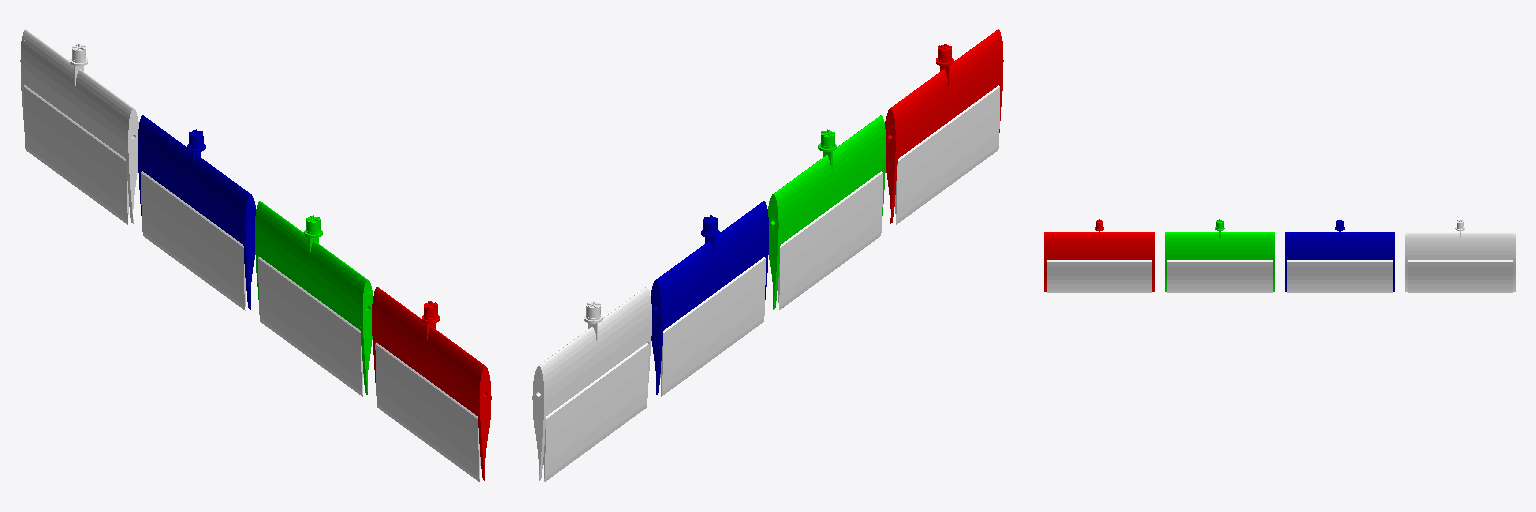
URDF robot description (physics):
<?xml version="1.0"?>
<robot name="physics">


 <!--                                  LINK 0                                   -->
  <link name="link0">
    <visual name='link0_visual'>
        <origin rpy="0 0 0" xyz="0.0 .28 0"/>

        <geometry>
            <mesh filename="package://meshes/mist_mainwing.STL" scale="0.001 0.001 0.001"/>
        </geometry>
      <material name="white">
        <color rgba="1 1 1 1"/>
      </material>
    </visual>
    
    <collision name='link0_collision'>
        <origin rpy="0 0 0" xyz="0 0 -.2 "/>
        <geometry>
            <box size="0.7 0.7 0.1"/>
        </geometry>
    </collision>
    
    <inertial>
      <mass value="20"/>
      <inertia ixx="1.0" ixy="0.0" ixz="0.0" iyy="1.0" iyz="0.0" izz="1.0"/>
    </inertial>
  </link>
 <!--                                  LINK 1                                   -->
 <link name="link1">
    <visual name='link1_visual'>
        <origin rpy="0 0 0" xyz="0.0 .28 0"/>

        <geometry>
            <mesh filename="package://meshes/mist_mainwing.STL" scale="0.001 0.001 0.001"/>
        </geometry>

      <material name="blue">
        <color rgba="0 0 .8 1"/>
      </material>
    </visual>
    
    <collision name='link1_collision'>
        <origin rpy="0 0 0" xyz="0 0 -.2 "/>

        <geometry>
            <box size="0.7 0.7 0.1"/>
        </geometry>
    </collision>
    
    <inertial>
      <mass value="20"/>
      <inertia ixx="1.0" ixy="0.0" ixz="0.0" iyy="1.0" iyz="0.0" izz="1.0"/>
    </inertial>
  </link>


   <!--                                  LINK 2                                  -->
 <link name="link2">
    <visual name='link2_visual'>
        <origin rpy="0 0 0" xyz="0.0 .28 0"/>

        <geometry>
            <mesh filename="package://meshes/mist_mainwing.STL" scale="0.001 0.001 0.001"/>
        </geometry>
      
      <material name="green">
        <color rgba="0 1 0 1"/>
      </material>
    </visual>
    
    <collision name='link2_collision'>
        <origin rpy="0 0 0" xyz="0 0 -.2 "/>

        <geometry>
            <box size="0.7 0.7 0.1"/>
        </geometry>
    </collision>
    
    <inertial>
      <mass value="20"/>
      <inertia ixx="1.0" ixy="0.0" ixz="0.0" iyy="1.0" iyz="0.0" izz="1.0"/>
    </inertial>
  </link>

     <!--                                  LINK 3                                  -->
 <link name="link3">
    <visual name='link3_visual'>
        <origin rpy="0 0 0" xyz="0.0 .28 0"/>

        <geometry>
            <mesh filename="package://meshes/mist_mainwing.STL" scale="0.001 0.001 0.001"/>
        </geometry>

      <material name="red">
        <color rgba="1 0 0 1"/>
      </material>
    </visual>
    
    <collision name='link3_collision'>
        <origin rpy="0 0 0" xyz="0 0 -.2 "/>

        <geometry>
            <box size="0.7 0.7 0.1"/>
        </geometry>
    </collision>
    
    <inertial>
      <mass value="20"/>
      <inertia ixx="1.0" ixy="0.0" ixz="0.0" iyy="1.0" iyz="0.0" izz="1.0"/>
    </inertial>
  </link>


    <joint name="h0_joint" type="revolute">
    <axis xyz="0 0 1"/>
    <parent link="link1"/>
    <child link="link0"/>
    <origin rpy="0 0 0" xyz="0 .58 0"/>
    <limit effort="1" velocity="1" lower="0" upper="1.57079632679"/>
    <joint_properties damping="1.0" friction="0.0"/>
  </joint>

      <joint name="h1_joint" type="revolute">
    <axis xyz="0 0 1"/>
    <parent link="link2"/>
    <child link="link1"/>
    <origin rpy="0 0 0" xyz="0 .58 0"/>
    <limit effort="1" velocity="1" lower="0" upper="1.57079632679"/>
    <joint_properties damping="1.0" friction="0.0"/>
  </joint>

        <joint name="h2_joint" type="revolute">
    <axis xyz="0 0 1"/>
    <parent link="link3"/>
    <child link="link2"/>
    <origin rpy="0 0 0" xyz="0 .58 0"/>
    <limit effort="1" velocity="1" lower="0" upper="1.57079632679"/>
    <joint_properties damping="1.0" friction="0.0"/>
  </joint>





<!--                              control surface 0                       -->
  <link name="ctrlsurf0">
    <visual name='ctrlsurf0_visual'>
        <origin rpy="0 0 0" xyz="0.0 .28 -.05"/>

        <geometry>
            <mesh filename="package://meshes/mist_controlsurface.STL" scale="0.001 0.001 0.001"/>
        </geometry>
      <material name="white">
        <color rgba="1 1 1 1"/>
      </material>
    </visual>
    
    <inertial>
      <mass value="20"/>
      <inertia ixx="1.0" ixy="0.0" ixz="0.0" iyy="1.0" iyz="0.0" izz="1.0"/>
    </inertial>
  </link>


  <!--                              control surface 1                       -->
  <link name="ctrlsurf1">
    <visual name='ctrlsurf1_visual'>
        <origin rpy="0 0 0" xyz="0.0 .28 -.05"/>

        <geometry>
            <mesh filename="package://meshes/mist_controlsurface.STL" scale="0.001 0.001 0.001"/>
        </geometry>
      <material name="white">
      </material>
    </visual>
    
    <inertial>
      <mass value="20"/>
      <inertia ixx="1.0" ixy="0.0" ixz="0.0" iyy="1.0" iyz="0.0" izz="1.0"/>
    </inertial>
  </link>


  <!--                              control surface 2                       -->
  <link name="ctrlsurf2">
    <visual name='ctrlsurf2_visual'>
        <origin rpy="0 0 0" xyz="0.0 .28 -.05"/>

        <geometry>
            <mesh filename="package://meshes/mist_controlsurface.STL" scale="0.001 0.001 0.001"/>
        </geometry>
      <material name="white">
      </material>
    </visual>
    
    <inertial>
      <mass value="20"/>
      <inertia ixx="1.0" ixy="0.0" ixz="0.0" iyy="1.0" iyz="0.0" izz="1.0"/>
    </inertial>
  </link>


  <!--                              control surface 3                       -->
  <link name="ctrlsurf3">
    <visual name='ctrlsurf3_visual'>
        <origin rpy="0 0 0" xyz="0.0 .28 -.05"/>

        <geometry>
            <mesh filename="package://meshes/mist_controlsurface.STL" scale="0.001 0.001 0.001"/>
        </geometry>
      <material name="white">
      </material>
    </visual>
    
    <inertial>
      <mass value="20"/>
      <inertia ixx="1.0" ixy="0.0" ixz="0.0" iyy="1.0" iyz="0.0" izz="1.0"/>
    </inertial>
  </link>

  <joint name="link0_ctrlsurf0" type="revolute">
    <axis xyz="0 1 0"/>
    <parent link="link0"/>
    <child link="ctrlsurf0"/>
    <origin rpy="0 0 0" xyz="-.003 0 -.08"/>
    <limit effort="1" velocity="1" lower="-1.57079632679" upper="1.57079632679"/>
    <joint_properties damping="1.0" friction="0.0"/>
  </joint>

  <joint name="link1_ctrlsurf1" type="revolute">
    <axis xyz="0 1 0"/>
    <parent link="link1"/>
    <child link="ctrlsurf1"/>
    <origin rpy="0 0 0" xyz="-.003 0 -.08"/>
    <limit effort="1" velocity="1" lower="-1.57079632679" upper="1.57079632679"/>
    <joint_properties damping="1.0" friction="0.0"/>
  </joint>


  <joint name="link2_ctrlsurf2" type="revolute">
    <axis xyz="0 1 0"/>
    <parent link="link2"/>
    <child link="ctrlsurf2"/>
    <origin rpy="0 0 0" xyz="-.003 0 -.08"/>
    <limit effort="1" velocity="1" lower="-1.57079632679" upper="1.57079632679"/>
    <joint_properties damping="1.0" friction="0.0"/>
  </joint>

  <joint name="link3_ctrlsurf3" type="revolute">
    <axis xyz="0 1 0"/>
    <parent link="link3"/>
    <child link="ctrlsurf3"/>
    <origin rpy="0 0 0" xyz="-.003 0 -.08"/>
    <limit effort="1" velocity="1" lower="-1.57079632679" upper="1.57079632679"/>
    <joint_properties damping="1.0" friction="0.0"/>
  </joint>

<!--                               Propeller 0                             -->
<link name="prop0">
    <visual name='prop0_visual'>
        <origin rpy="0 0 0" xyz="0.0 0 -.05"/>

        <geometry>
            <mesh filename="package://meshes/propeller_ccw.dae" scale="0.1 0.1 0.1"/>
        </geometry>
      <material name="blue">
      </material>
    </visual>
    
    <inertial>
      <mass value=".1"/>
      <inertia ixx="1.0" ixy="0.0" ixz="0.0" iyy="1.0" iyz="0.0" izz="1.0"/>
    </inertial>
  </link>

<!--                               Propeller 1                             -->
<link name="prop1">
    <visual name='prop1_visual'>
        <origin rpy="0 0 0" xyz="0.0 0 -.05"/>

        <geometry>
            <mesh filename="package://meshes/propeller_ccw.dae" scale="0.1 0.1 0.1"/>
        </geometry>
      <material name="blue">
      </material>
    </visual>
    
    <inertial>
      <mass value=".1"/>
      <inertia ixx="1.0" ixy="0.0" ixz="0.0" iyy="1.0" iyz="0.0" izz="1.0"/>
    </inertial>
  </link>


  <!--                               Propeller 2                             -->
<link name="prop2">
    <visual name='prop2_visual'>
        <origin rpy="0 0 0" xyz="0.0 0 -.05"/>

        <geometry>
            <mesh filename="package://meshes/propeller_ccw.dae" scale="0.1 0.1 0.1"/>
        </geometry>
      <material name="blue">
      </material>
    </visual>
    
    <inertial>
      <mass value=".1"/>
      <inertia ixx="1.0" ixy="0.0" ixz="0.0" iyy="1.0" iyz="0.0" izz="1.0"/>
    </inertial>
  </link>



  <!--                               Propeller 3                             -->
<link name="prop3">
    <visual name='prop3_visual'>
        <origin rpy="0 0 0" xyz="0.0 0 -.05"/>

        <geometry>
            <mesh filename="package://meshes/propeller_ccw.dae" scale="0.1 0.1 0.1"/>
        </geometry>
      <material name="blue">
      </material>
    </visual>
    
    <inertial>
      <mass value=".1"/>
      <inertia ixx="1.0" ixy="0.0" ixz="0.0" iyy="1.0" iyz="0.0" izz="1.0"/>
    </inertial>
  </link>



  <joint name="link0_prop0" type="continuous">
    <axis xyz="0 0 1"/>
    <parent link="link0"/>
    <child link="prop0"/>
    <origin rpy="0 0 0" xyz="-.003 .28 .185"/>
    <!-- <limit effort="1" velocity="1" lower="-1.57079632679" upper="1.57079632679"/> -->
    <joint_properties damping="1.0" friction="0.0"/>
  </joint>

  <joint name="link1_prop1" type="continuous">
    <axis xyz="0 0 1"/>
    <parent link="link1"/>
    <child link="prop1"/>
    <origin rpy="0 0 0" xyz="-.003 .28 .185"/>
    <!-- <limit effort="1" velocity="1" lower="-1.57079632679" upper="1.57079632679"/> -->
    <joint_properties damping="1.0" friction="0.0"/>
  </joint>

  <joint name="link2_prop2" type="continuous">
    <axis xyz="0 0 1"/>
    <parent link="link2"/>
    <child link="prop2"/>
    <origin rpy="0 0 0" xyz="-.003 .28 .185"/>
    <!-- <limit effort="1" velocity="1" lower="-1.57079632679" upper="1.57079632679"/> -->
    <joint_properties damping="1.0" friction="0.0"/>
  </joint>

  <joint name="link3_prop3" type="continuous">
    <axis xyz="0 0 1"/>
    <parent link="link3"/>
    <child link="prop3"/>
    <origin rpy="0 0 0" xyz="-.003 .28 .185"/>
    <!-- <limit effort="1" velocity="1" lower="-1.57079632679" upper="1.57079632679"/> -->
    <joint_properties damping="1.0" friction="0.0"/>
  </joint>





</robot>

--- What the picture shows (computed from the rendered views, not written in the file) ---
The picture shows the robot from 3 angles, left to right: view 1: azimuth 30°, elevation 25°; view 2: azimuth 150°, elevation 25°; view 3: azimuth 270°, elevation 25°; orthographic projection.
Robot: physics — 12 links, 11 joints (7 revolute, 4 continuous); root link link3; default pose: every joint at zero.
Visible links, largest first — view 1: link3, link2, link1, link0, ctrlsurf2, ctrlsurf1, ctrlsurf0, ctrlsurf3; view 2: link0, link1, link3, link2, ctrlsurf1, ctrlsurf2, ctrlsurf0, ctrlsurf3; view 3: ctrlsurf1, ctrlsurf2, ctrlsurf0, ctrlsurf3, link0, link3, link1, link2.
Link boxes in pixels (x1=…): link3: x1=372, y1=287, x2=491, y2=480; link2: x1=255, y1=201, x2=372, y2=394; link1: x1=138, y1=115, x2=255, y2=309; link0: x1=20, y1=29, x2=138, y2=223; ctrlsurf2: x1=258, y1=257, x2=363, y2=396; ctrlsurf1: x1=141, y1=171, x2=245, y2=310; ctrlsurf0: x1=24, y1=85, x2=128, y2=224; ctrlsurf3: x1=375, y1=343, x2=480, y2=481; link0: x1=532, y1=287, x2=651, y2=480; link1: x1=651, y1=201, x2=768, y2=394; link3: x1=885, y1=29, x2=1003, y2=223; link2: x1=768, y1=115, x2=885, y2=309; ctrlsurf1: x1=660, y1=257, x2=765, y2=396; ctrlsurf2: x1=778, y1=171, x2=882, y2=309; ctrlsurf0: x1=543, y1=343, x2=648, y2=481; ctrlsurf3: x1=895, y1=85, x2=999, y2=224; ctrlsurf1: x1=1287, y1=260, x2=1392, y2=292; ctrlsurf2: x1=1167, y1=260, x2=1272, y2=292; ctrlsurf0: x1=1408, y1=260, x2=1512, y2=292; ctrlsurf3: x1=1047, y1=260, x2=1151, y2=292; link0: x1=1405, y1=219, x2=1515, y2=291; link3: x1=1044, y1=219, x2=1154, y2=291; link1: x1=1285, y1=220, x2=1394, y2=291; link2: x1=1165, y1=219, x2=1274, y2=291.
Bounding box of the posed robot: 0.0458 × 2.27 × 0.3912 m (x, y, z).
8 mesh visuals loaded from 3 distinct referenced files (2 binary STL); not drawn: 4 (reference not matched to a file when rendering).